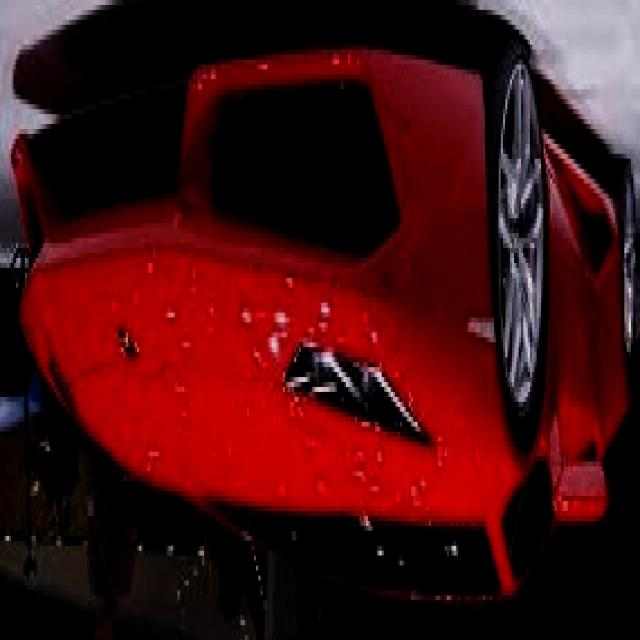red: (0, 46, 635, 611)
